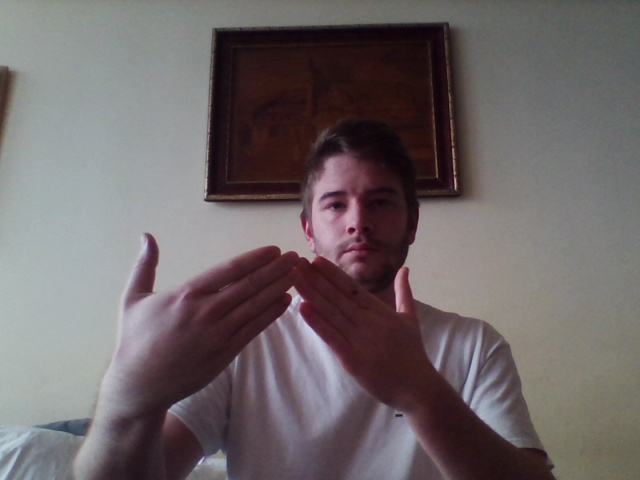hvala: (119, 232, 425, 399)
